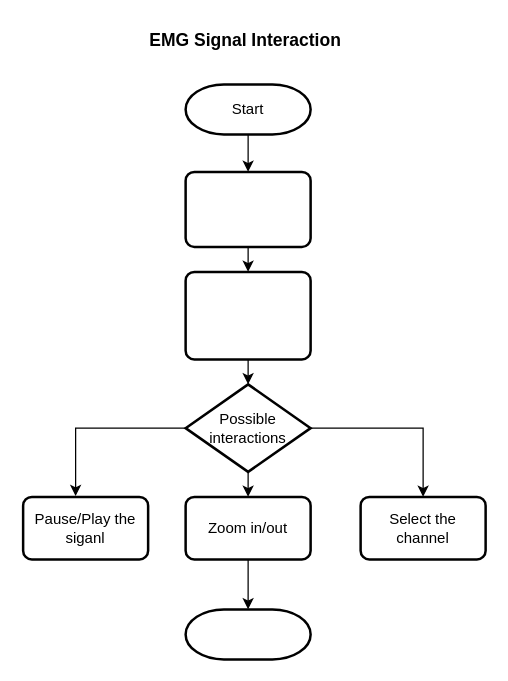
This 508x681 diagram has some shape labels left out. The shapes that lost their labels are listed below. From the top down, each one's centre as x and y in pixels, then its label:
(247,209): Load an EMG file
(247,315): Display the EMG signal
(247,634): End
